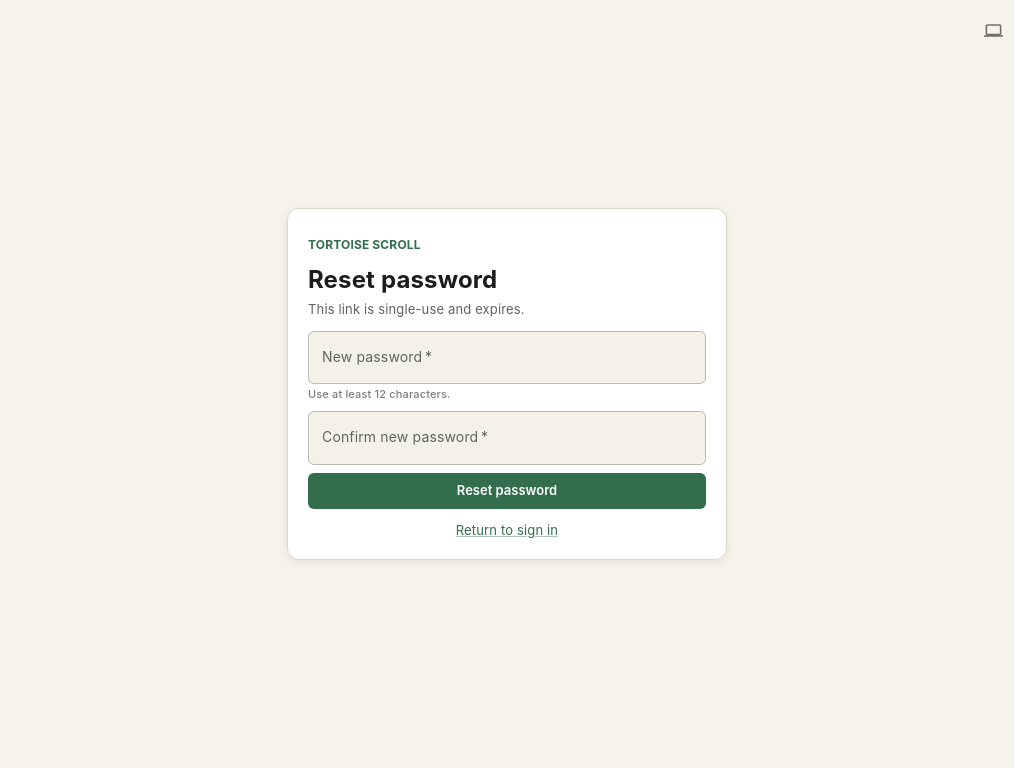
Test: Phase 5 account and session security UI › submits a reset token and confirms all sessions were signed out
The width and height of the screenshot is (1024, 768).
Type "reset-password-value-123" into the password field labelled "New password *" at [507, 358], box [308, 331, 706, 384]
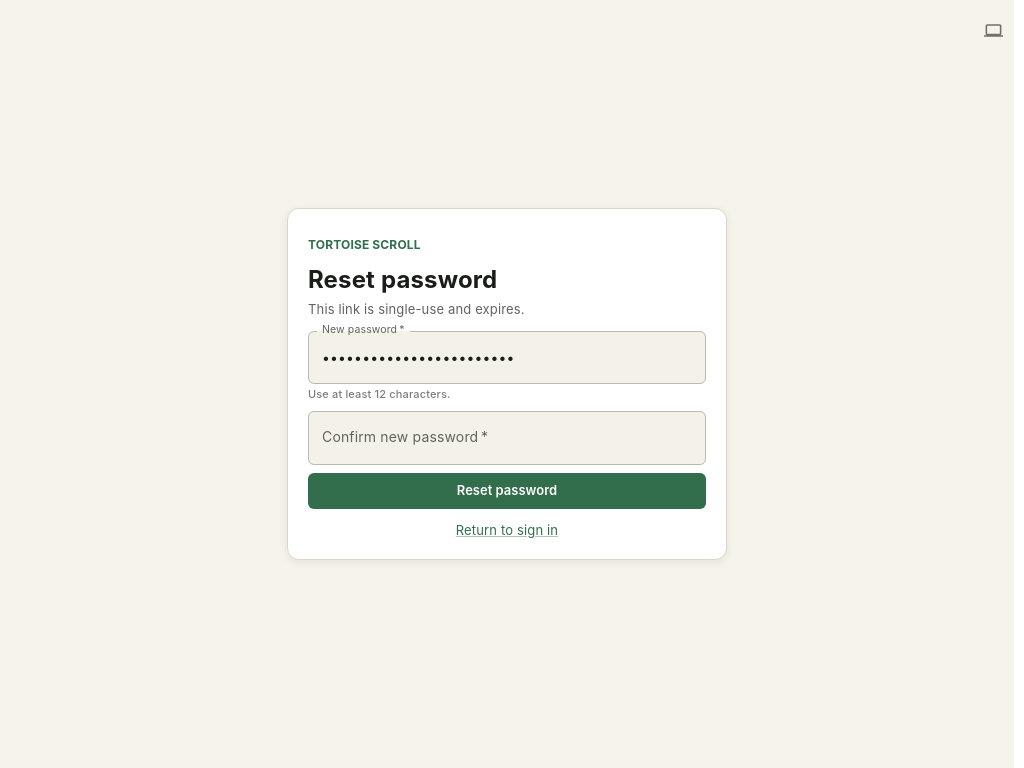
Type "reset-password-value-123" into the password field labelled "Confirm new password *" at [507, 438], box [308, 411, 706, 464]
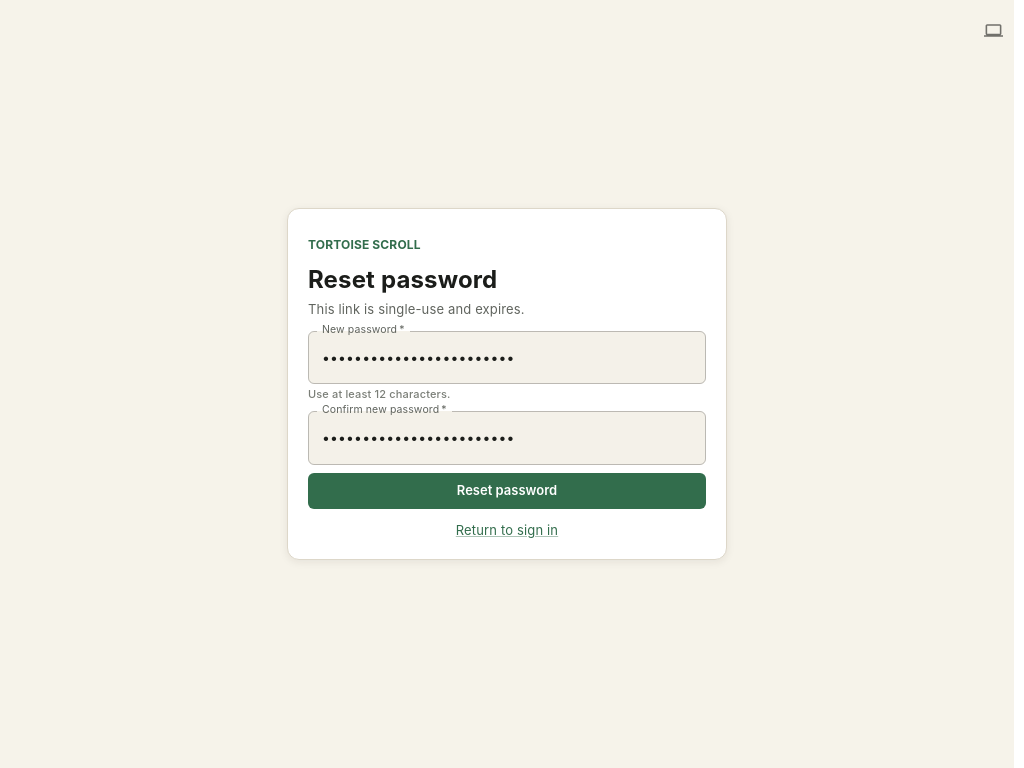
Click the button "Reset password" at [507, 490], box [308, 472, 706, 508]
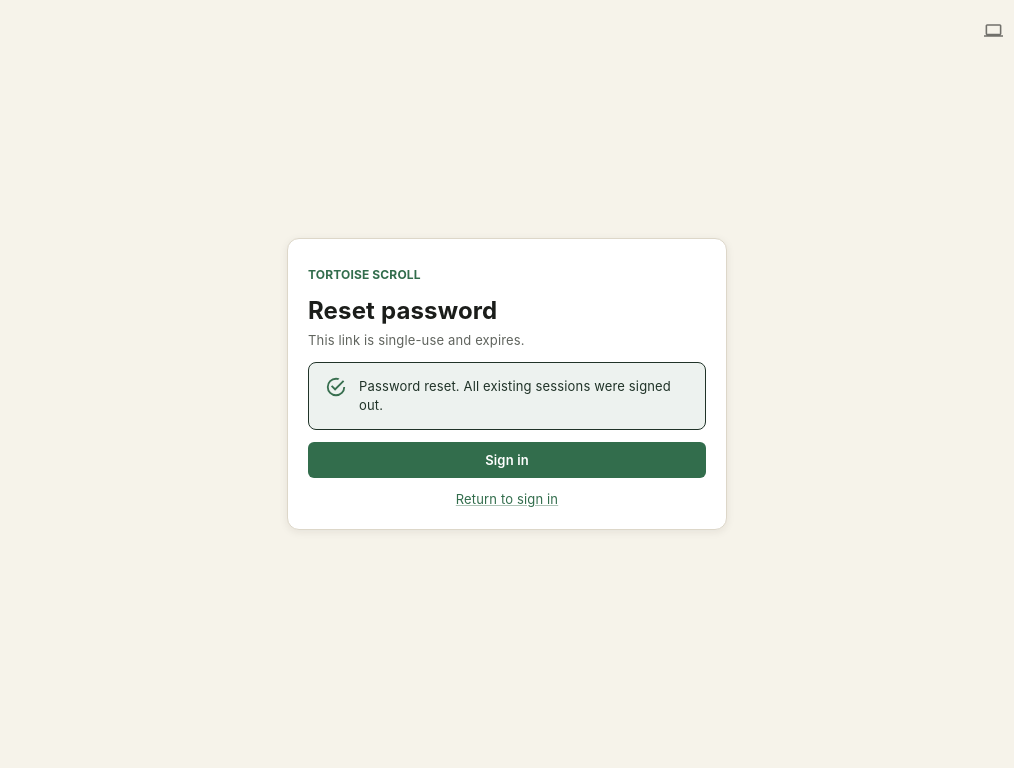
Check: the text "Password reset. All existing sessions were signed out." is shown, box [359, 369, 689, 423]
